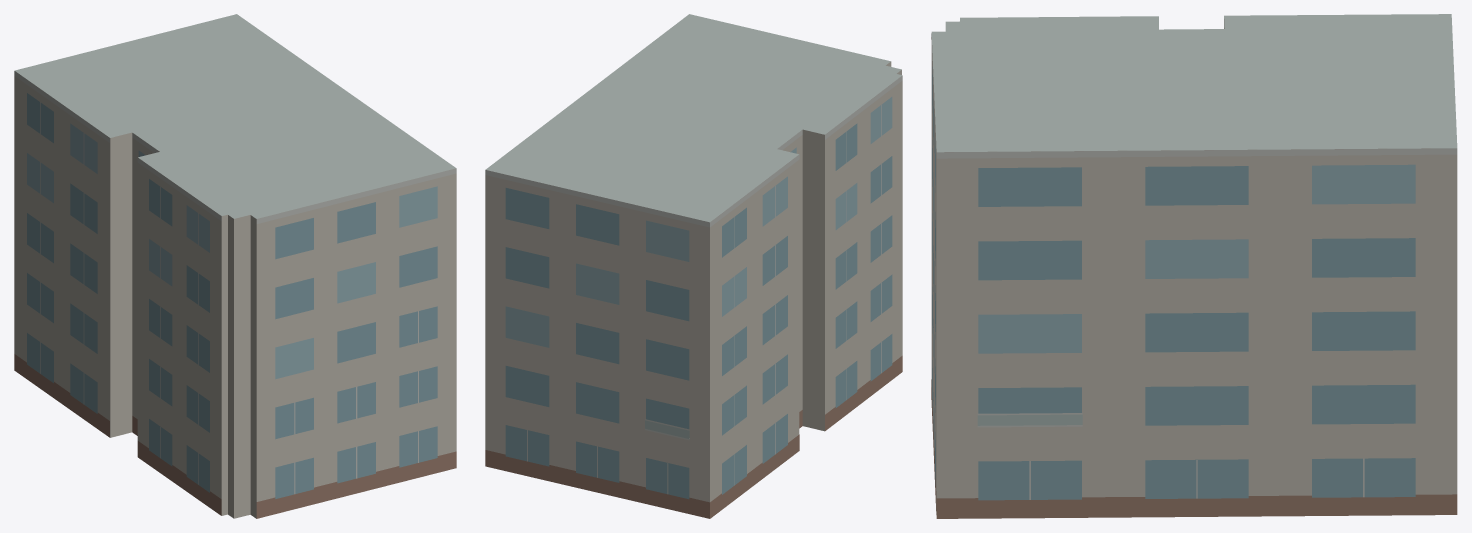
Rendered from survey-upis-32606549.glb.
The picture shows the model from 3 angles, left to right: view 1: azimuth 30°, elevation 25°; view 2: azimuth 150°, elevation 25°; view 3: azimuth 270°, elevation 25°; orthographic projection. The views are drawn at different scales.
Visible parts, largest first — view 1: survey-upis-32606549.tmp; view 2: survey-upis-32606549.tmp; view 3: survey-upis-32606549.tmp.
Part boxes in pixels (box(x1,y1,x2,y2)): survey-upis-32606549.tmp: box(14, 14, 456, 518); survey-upis-32606549.tmp: box(485, 14, 902, 518); survey-upis-32606549.tmp: box(931, 14, 1457, 518).
Bounding box in the file's own units: 11.33 × 14 × 18.2.
